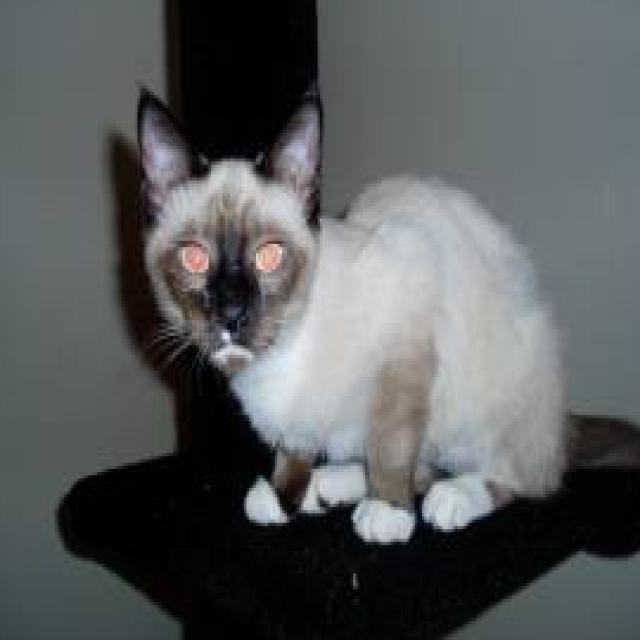Siamese: (130, 73, 640, 564)
